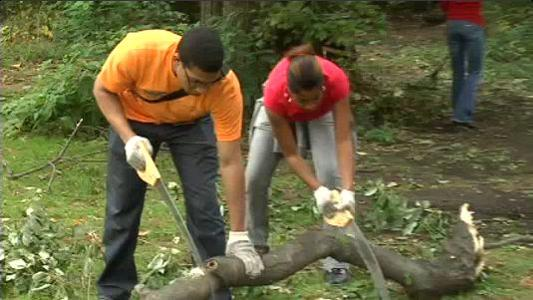person: (95, 26, 265, 300)
